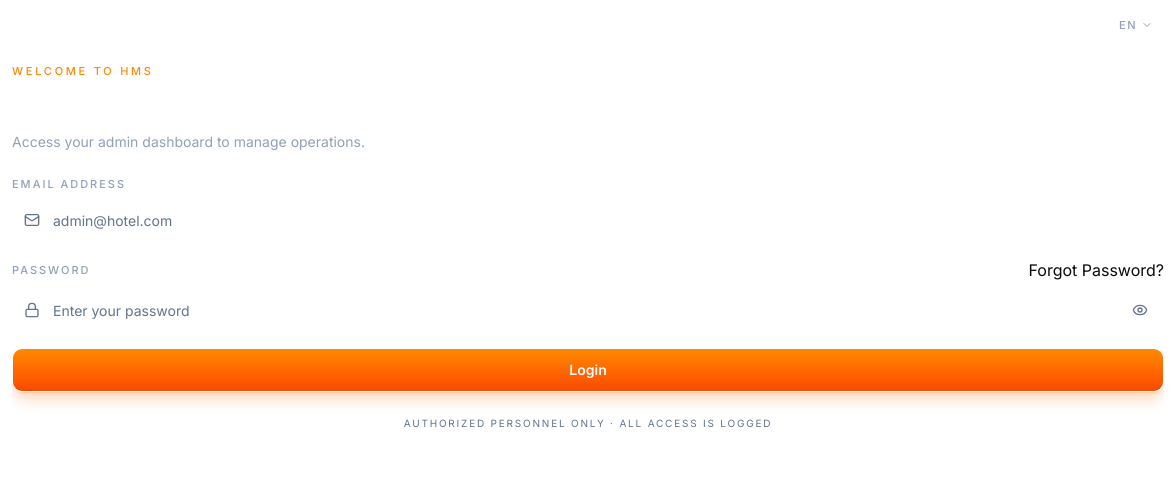
Test: LoginForm › shows validation errors for empty submit
Click the button "Login": (588, 370) x1=12 y1=348 x2=1164 y2=392
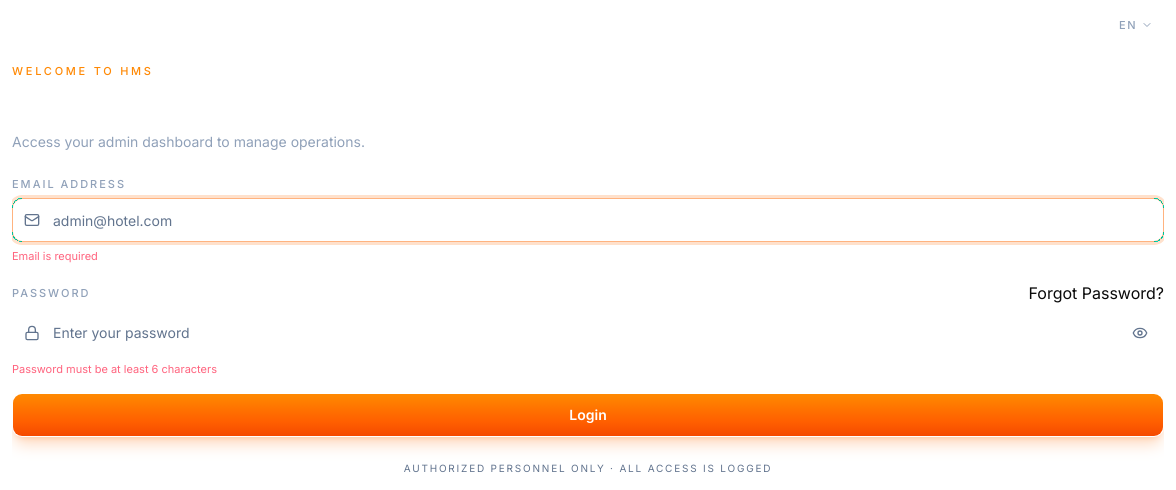
Check: the text "Email is required" is shown, box x1=12 y1=249 x2=98 y2=263
